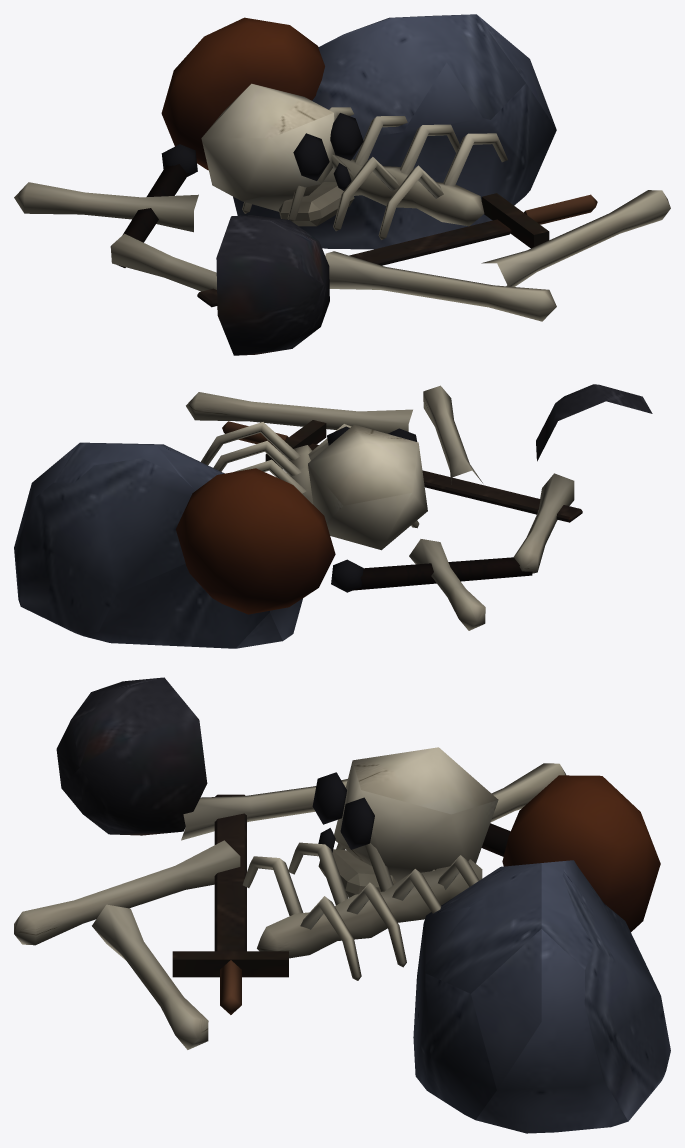
Rendered from cave_bones.glb.
3 views of the same model, one above another, from view 1: azimuth 30°, elevation 25°; view 2: azimuth 150°, elevation 25°; view 3: azimuth 270°, elevation 25° (orthographic). The views are drawn at different scales.
Visible parts, largest first — view 1: cave_bones; view 2: cave_bones; view 3: cave_bones.
Boxes of the visible parts, bbox=[...] form: cave_bones: bbox=[14, 14, 670, 355]; cave_bones: bbox=[14, 384, 652, 648]; cave_bones: bbox=[14, 677, 670, 1133].
Size of the model in its own units: 1.03 by 0.362 by 1.02.
6 materials, 4 textured.
